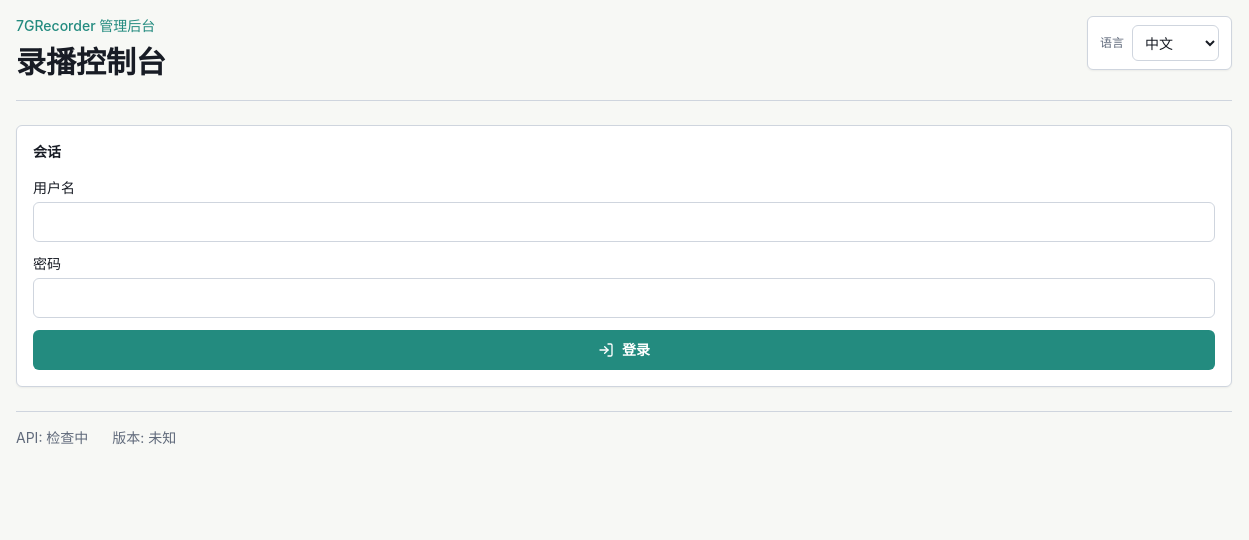
AdminDashboard › hides edit actions when a manager cannot edit profiles
Select "English" in the dropdown at (1176, 43), box [1132,25,1219,61]
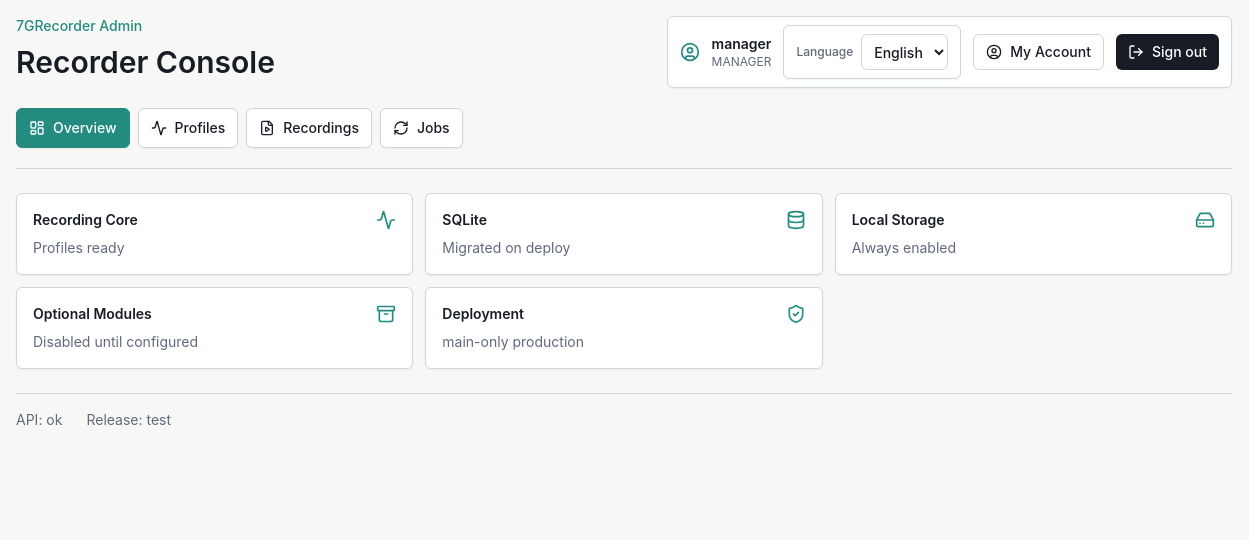
Expected: the heading "Recorder Console" is shown, [16,44,275,80]
Click the button "Profiles".
click(188, 128)  # box [138,108,238,148]
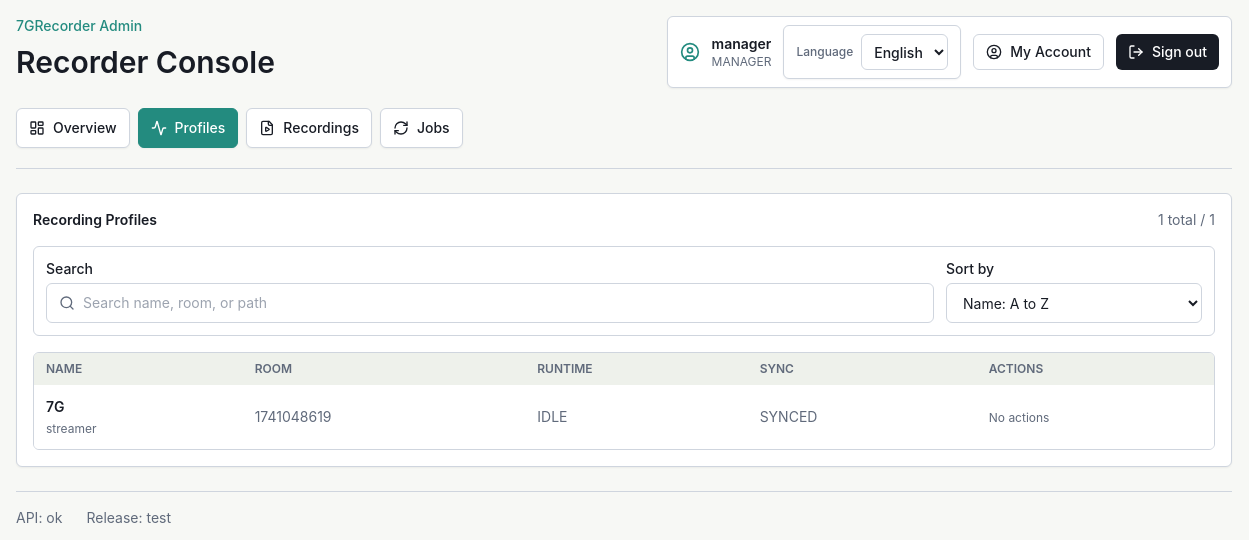
Expected: the button "7G" is shown, [46,397,65,417]
